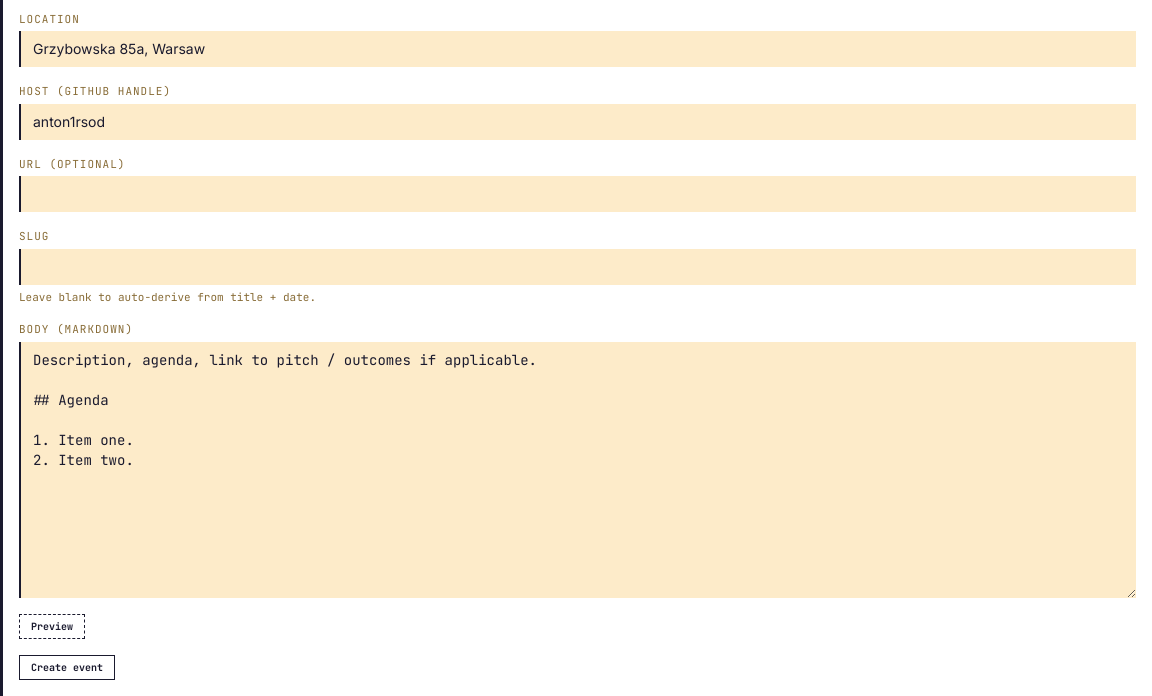
it: EventForm — preview button (O2 lock) › renders preview HTML when Preview clicked
(page scrolled)
Click the button "Preview" at [52, 626], box [19,614,85,638]
(page scrolled)
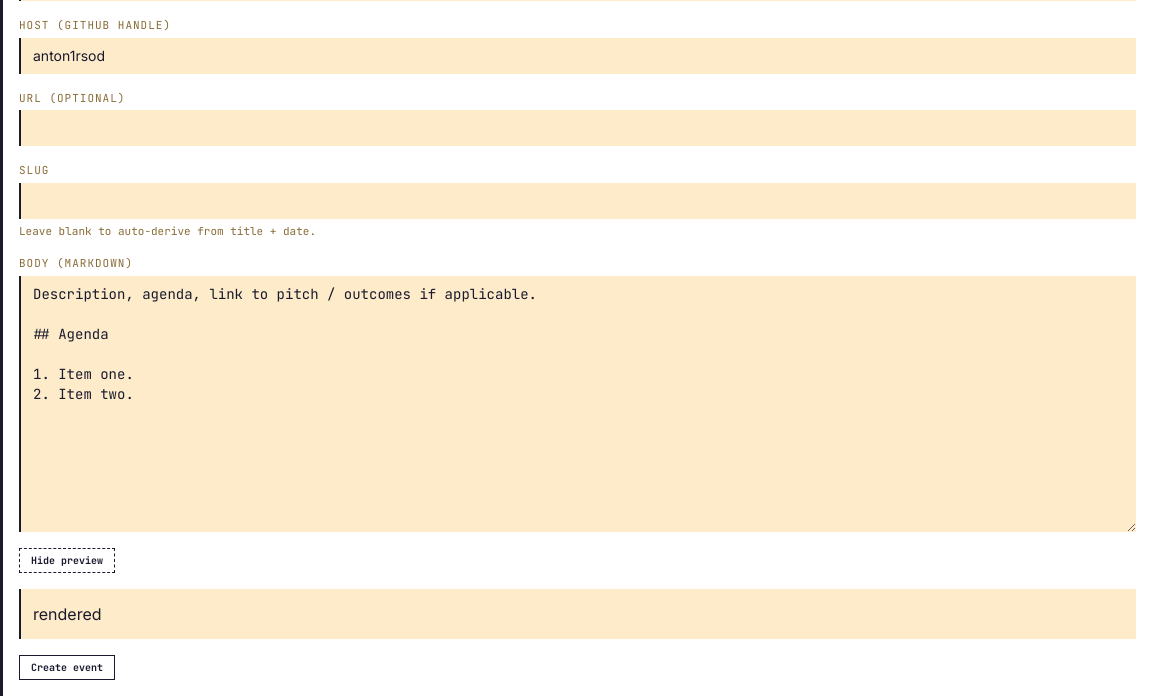
Check: the element with test id "event-body-preview" reads "rendered", box [33,604,102,624]
